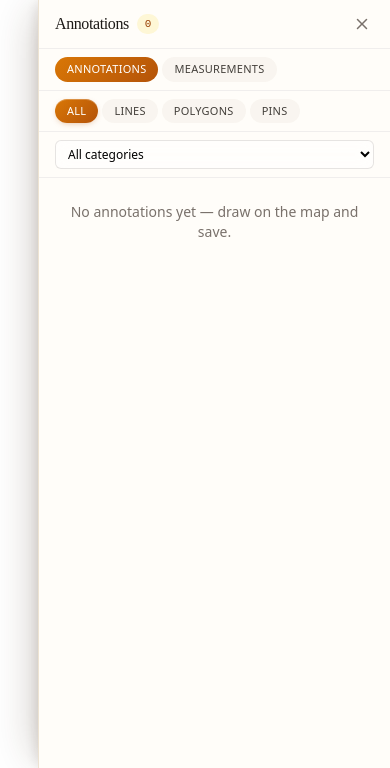
Test case: AnnotationsSidebar — Measurements tab › displays measurement rows when Measurements tab is active
Click the button "Measurements". click: (220, 69)
box: [162,57,277,82]
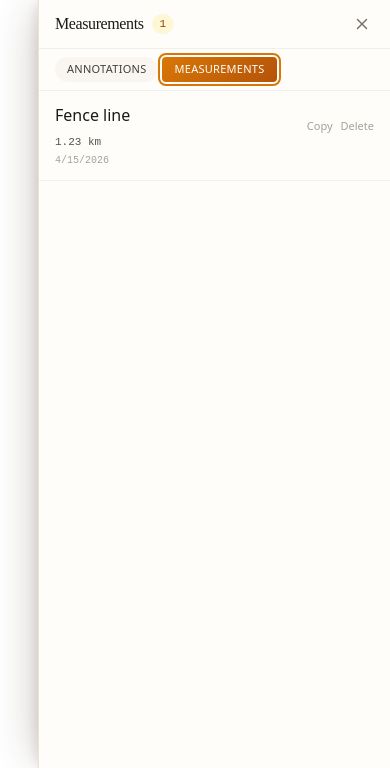
Check: the text "Fence line" is shown, box [55,104,130,126]
Check: the text "1.23 km" is shown, box [55,136,101,148]
